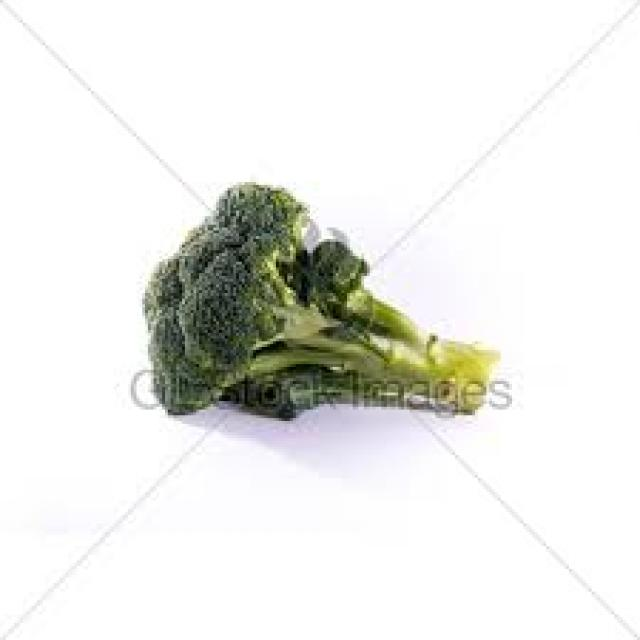organic waste: (139, 179, 492, 421)
